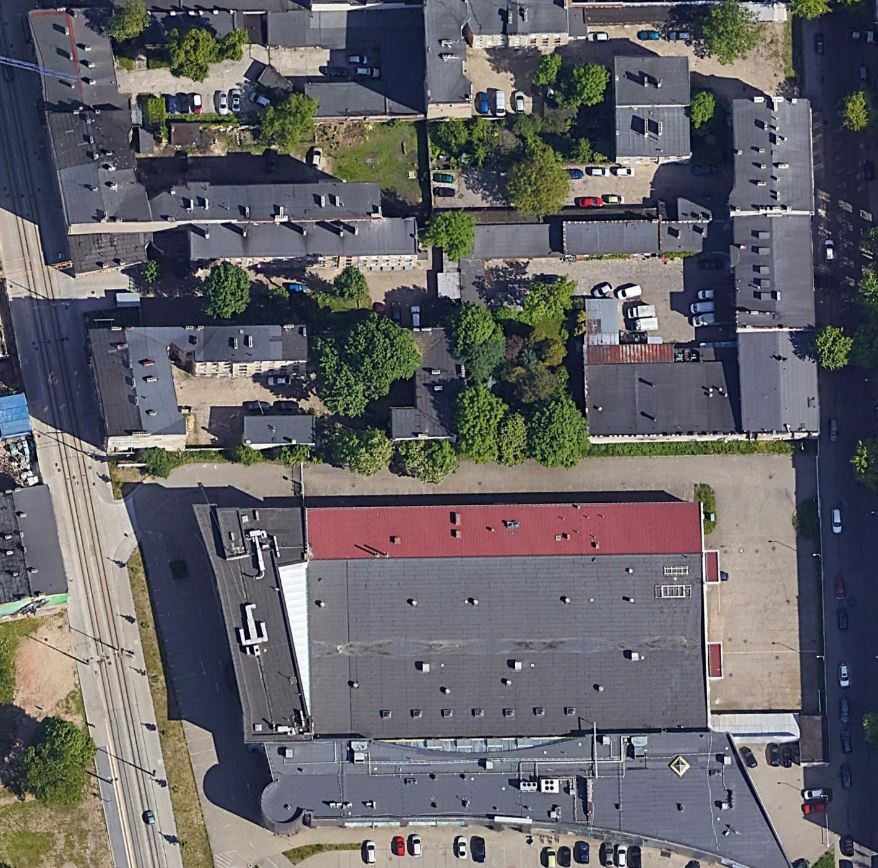block of flats: (21, 1, 440, 269), (72, 309, 324, 482), (720, 77, 835, 449), (539, 338, 750, 457), (453, 205, 736, 273), (596, 43, 709, 171), (1, 477, 85, 621)
shopping_center: (181, 481, 809, 868)
